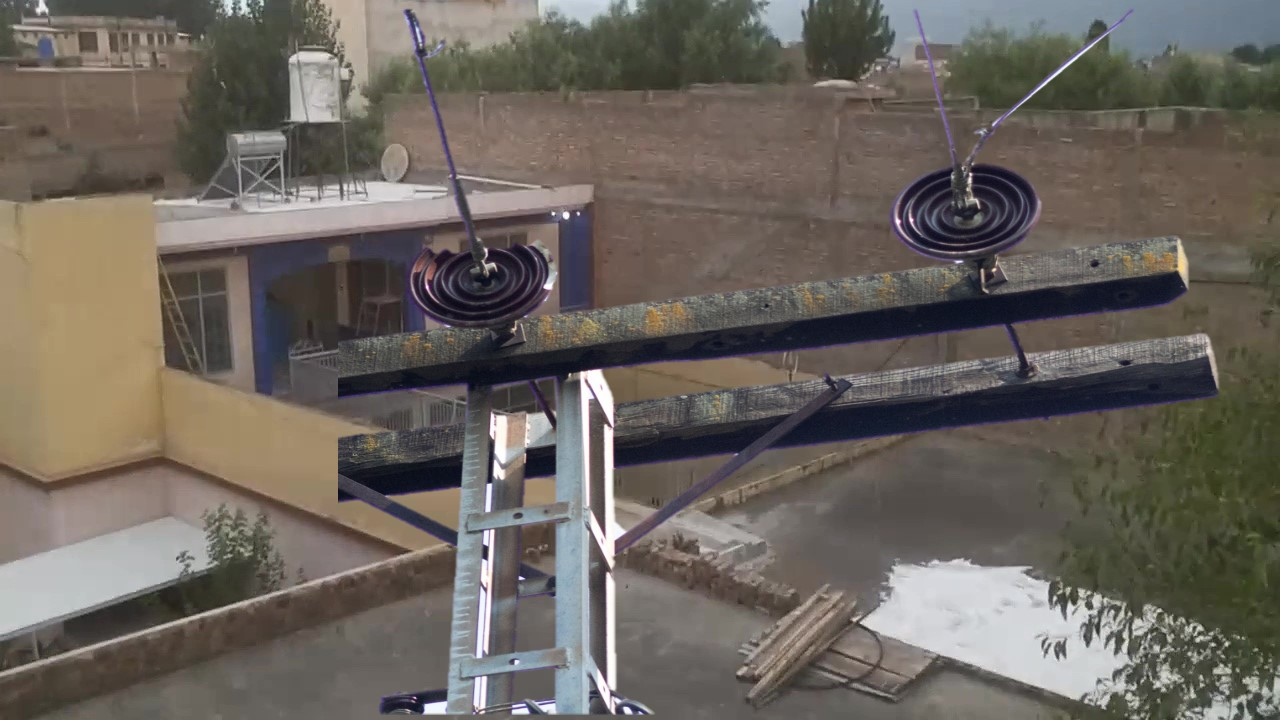defect_disc: (407, 235, 563, 326)
insulator_disc: (891, 162, 1047, 261)
